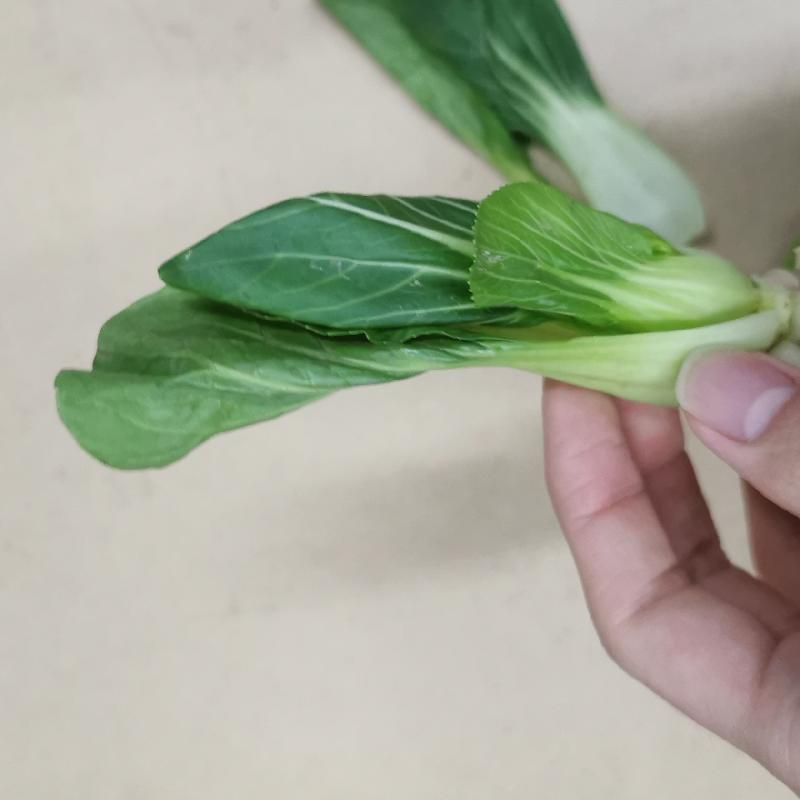green vegatable: (49, 183, 780, 477)
